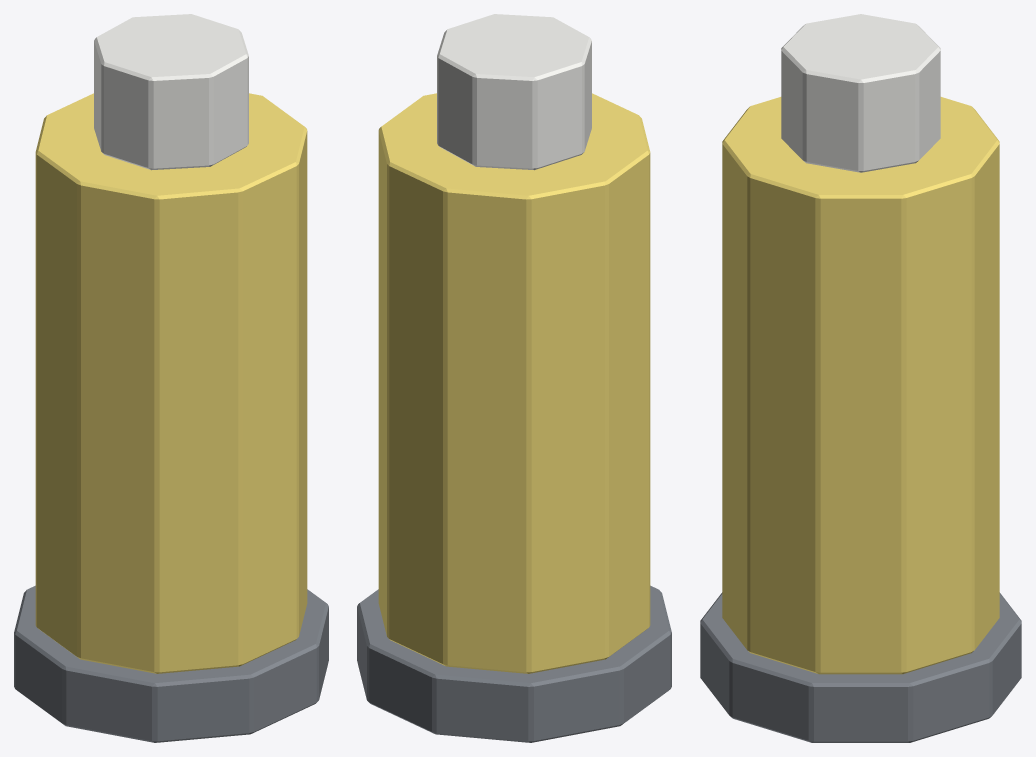
The picture shows the model from 3 angles, left to right: view 1: azimuth 30°, elevation 25°; view 2: azimuth 150°, elevation 25°; view 3: azimuth 270°, elevation 25°; orthographic projection.
Visible parts, largest first — view 1: 塔身, 底座, 顶灯.001; view 2: 塔身, 底座, 顶灯.001; view 3: 塔身, 底座, 顶灯.001.
Part boxes in pixels (x1,y1,x2,y2): 塔身: (35,93,307,673); 底座: (14,585,328,742); 顶灯.001: (94,14,248,170); 塔身: (378,93,650,673); 底座: (357,585,671,742); 顶灯.001: (437,14,591,170); 塔身: (722,97,999,674); 底座: (700,592,1021,742); 顶灯.001: (781,14,940,172).
Bounding box in the file's own units: 209 × 475 × 219.
